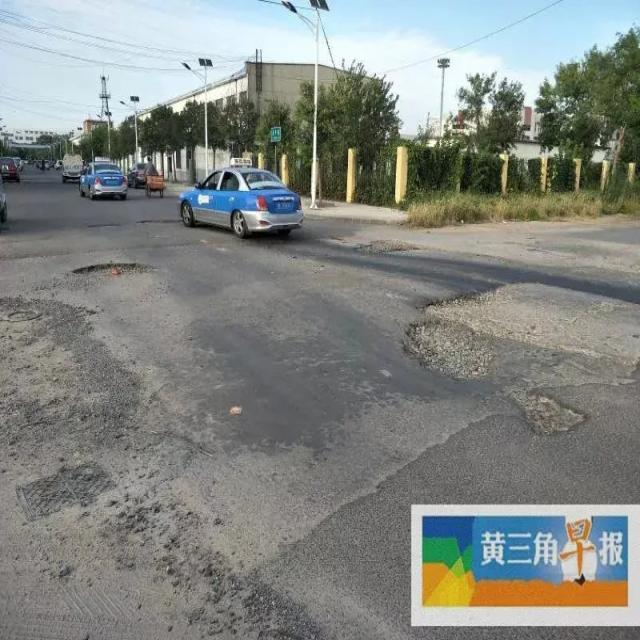Buraco: (397, 277, 640, 440), (68, 260, 164, 280), (348, 237, 428, 258), (133, 218, 184, 228), (83, 221, 123, 231)
